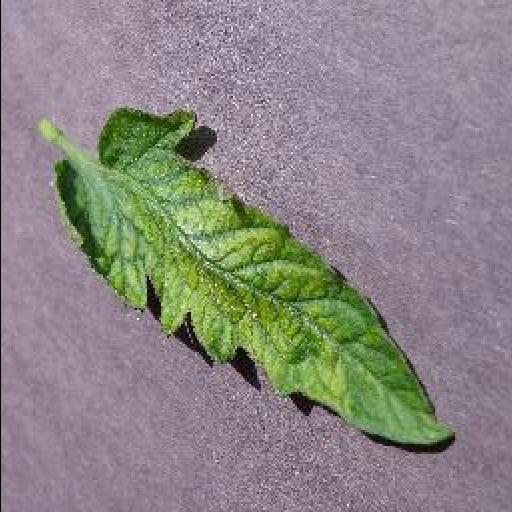disease_tomato: (50, 107, 456, 445)
